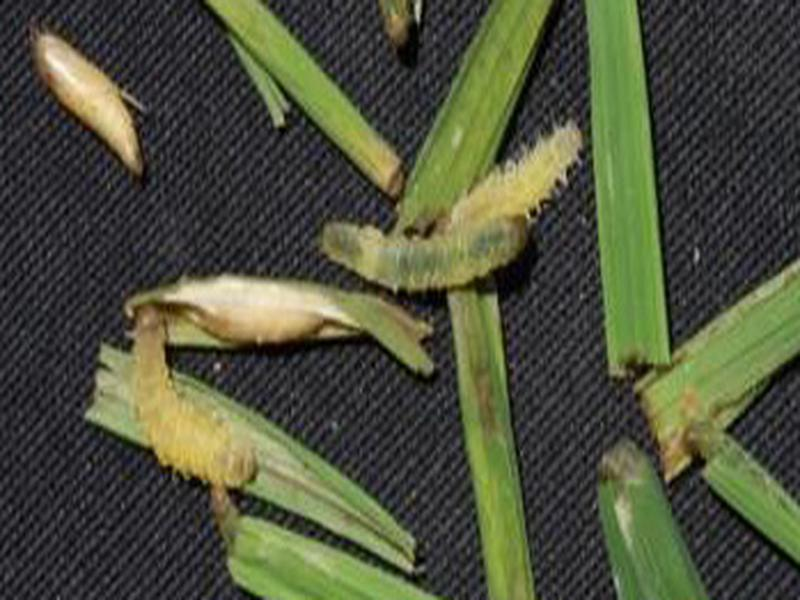Rice_case_worm: (112, 250, 427, 492), (303, 125, 586, 304), (20, 25, 140, 187)
